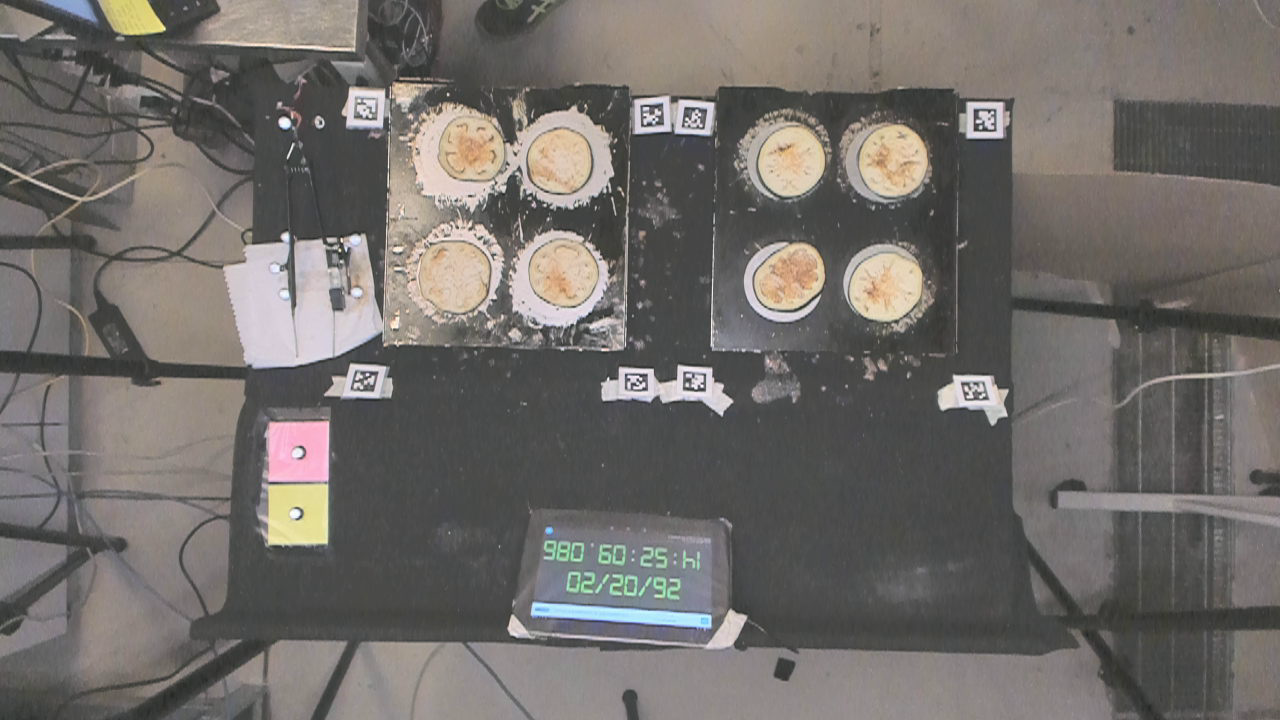eggplant: (855, 123, 932, 202), (526, 232, 599, 311), (416, 241, 490, 315), (754, 238, 826, 311), (757, 124, 824, 202), (846, 254, 920, 323), (525, 127, 594, 197), (437, 113, 503, 180)
marker: (269, 419, 329, 480)
